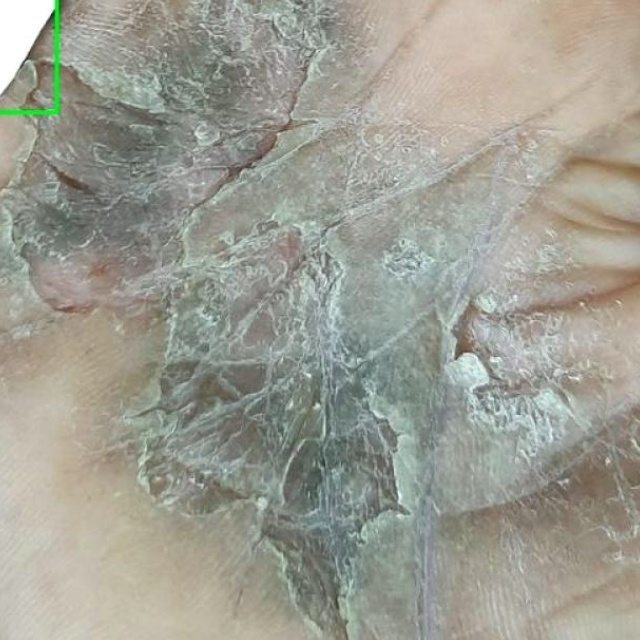Contact Dermatitis: (0, 0, 57, 112)
